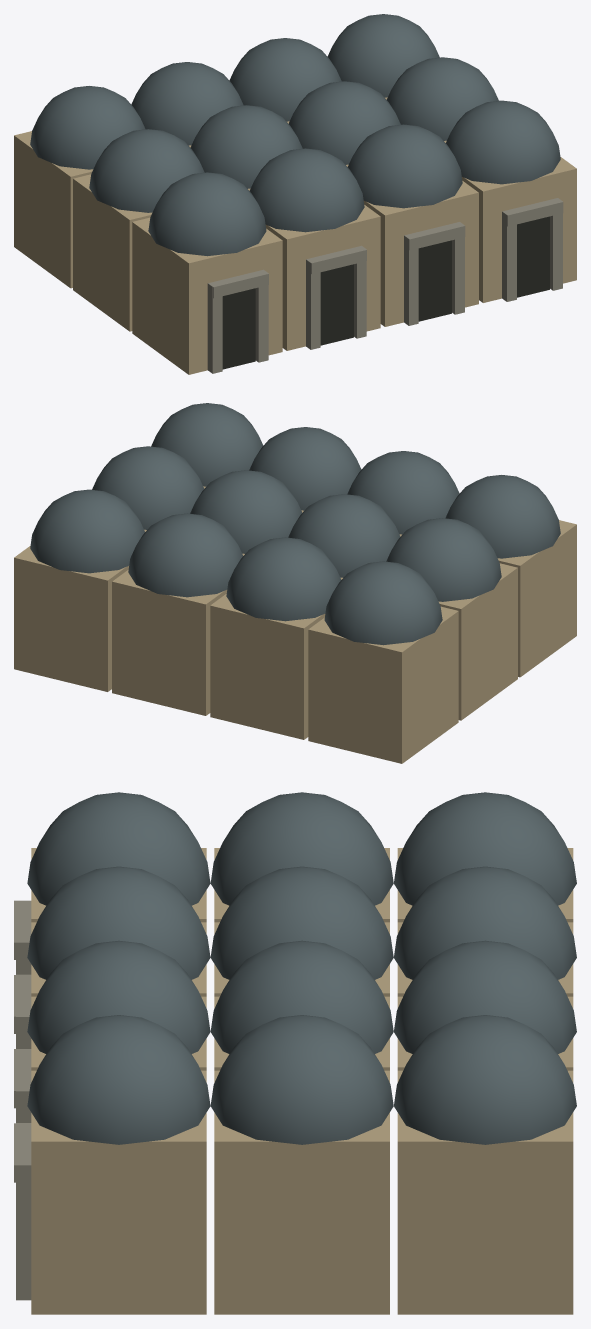
File: custom-wonder-carsi.glb
3 renders of one model, top to bottom at view 1: azimuth 30°, elevation 25°; view 2: azimuth 150°, elevation 25°; view 3: azimuth 270°, elevation 25°, orthographic. The views are drawn at different scales.
Visible parts, largest first — view 1: custom-wonder-carsi; view 2: custom-wonder-carsi; view 3: custom-wonder-carsi.
Boxes of the visible parts, box(x1,y1,x2,y2) form: custom-wonder-carsi: box(14, 14, 576, 374); custom-wonder-carsi: box(14, 403, 576, 763); custom-wonder-carsi: box(14, 792, 576, 1314).
Size of the model in its own units: 1 by 0.3978 by 0.793.
